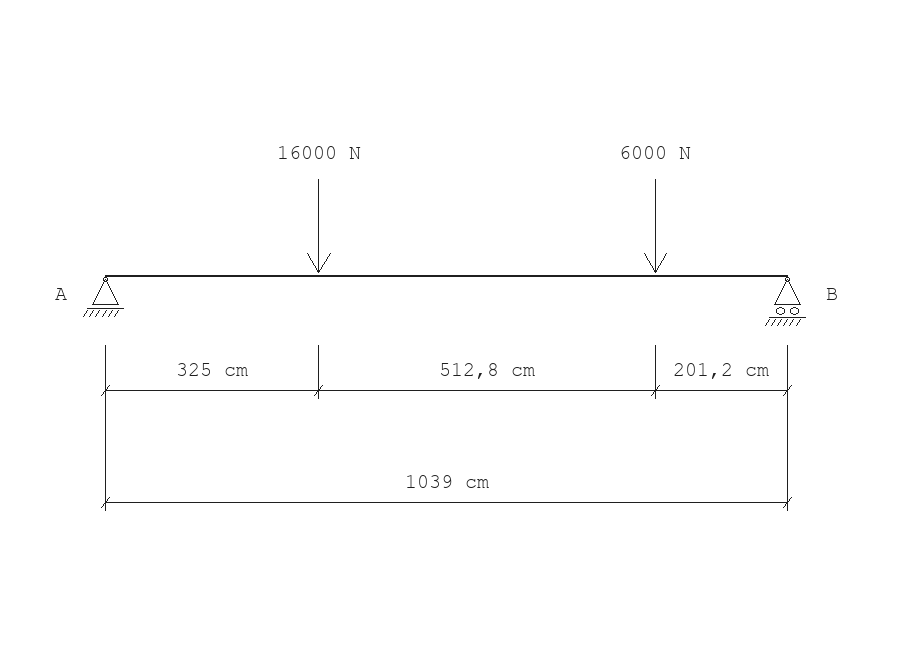pin_support: (83, 277, 124, 317)
point_load: (307, 179, 331, 273), (644, 179, 667, 273)
roller_support: (765, 277, 806, 326)
